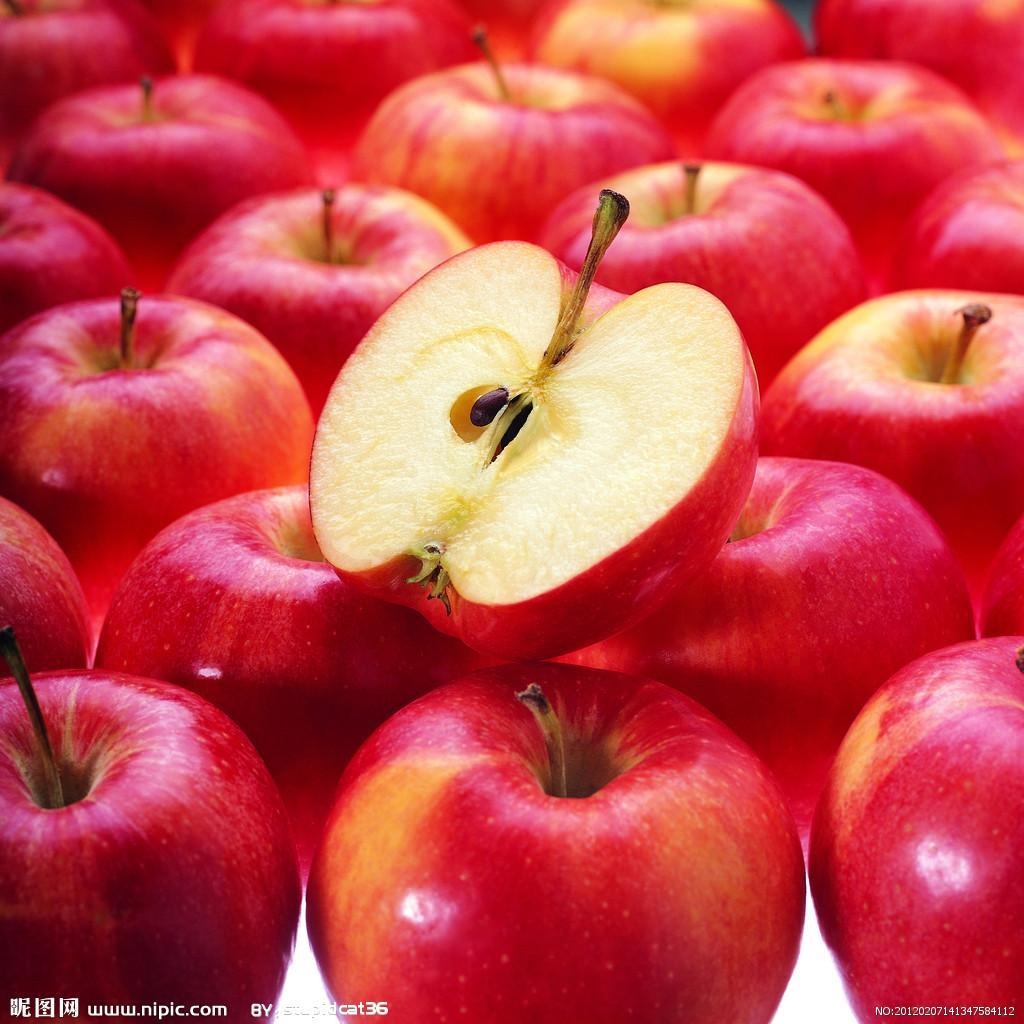apple: (335, 670, 828, 1020), (95, 490, 507, 889), (591, 452, 976, 852), (1, 664, 303, 1008), (9, 294, 316, 608)
